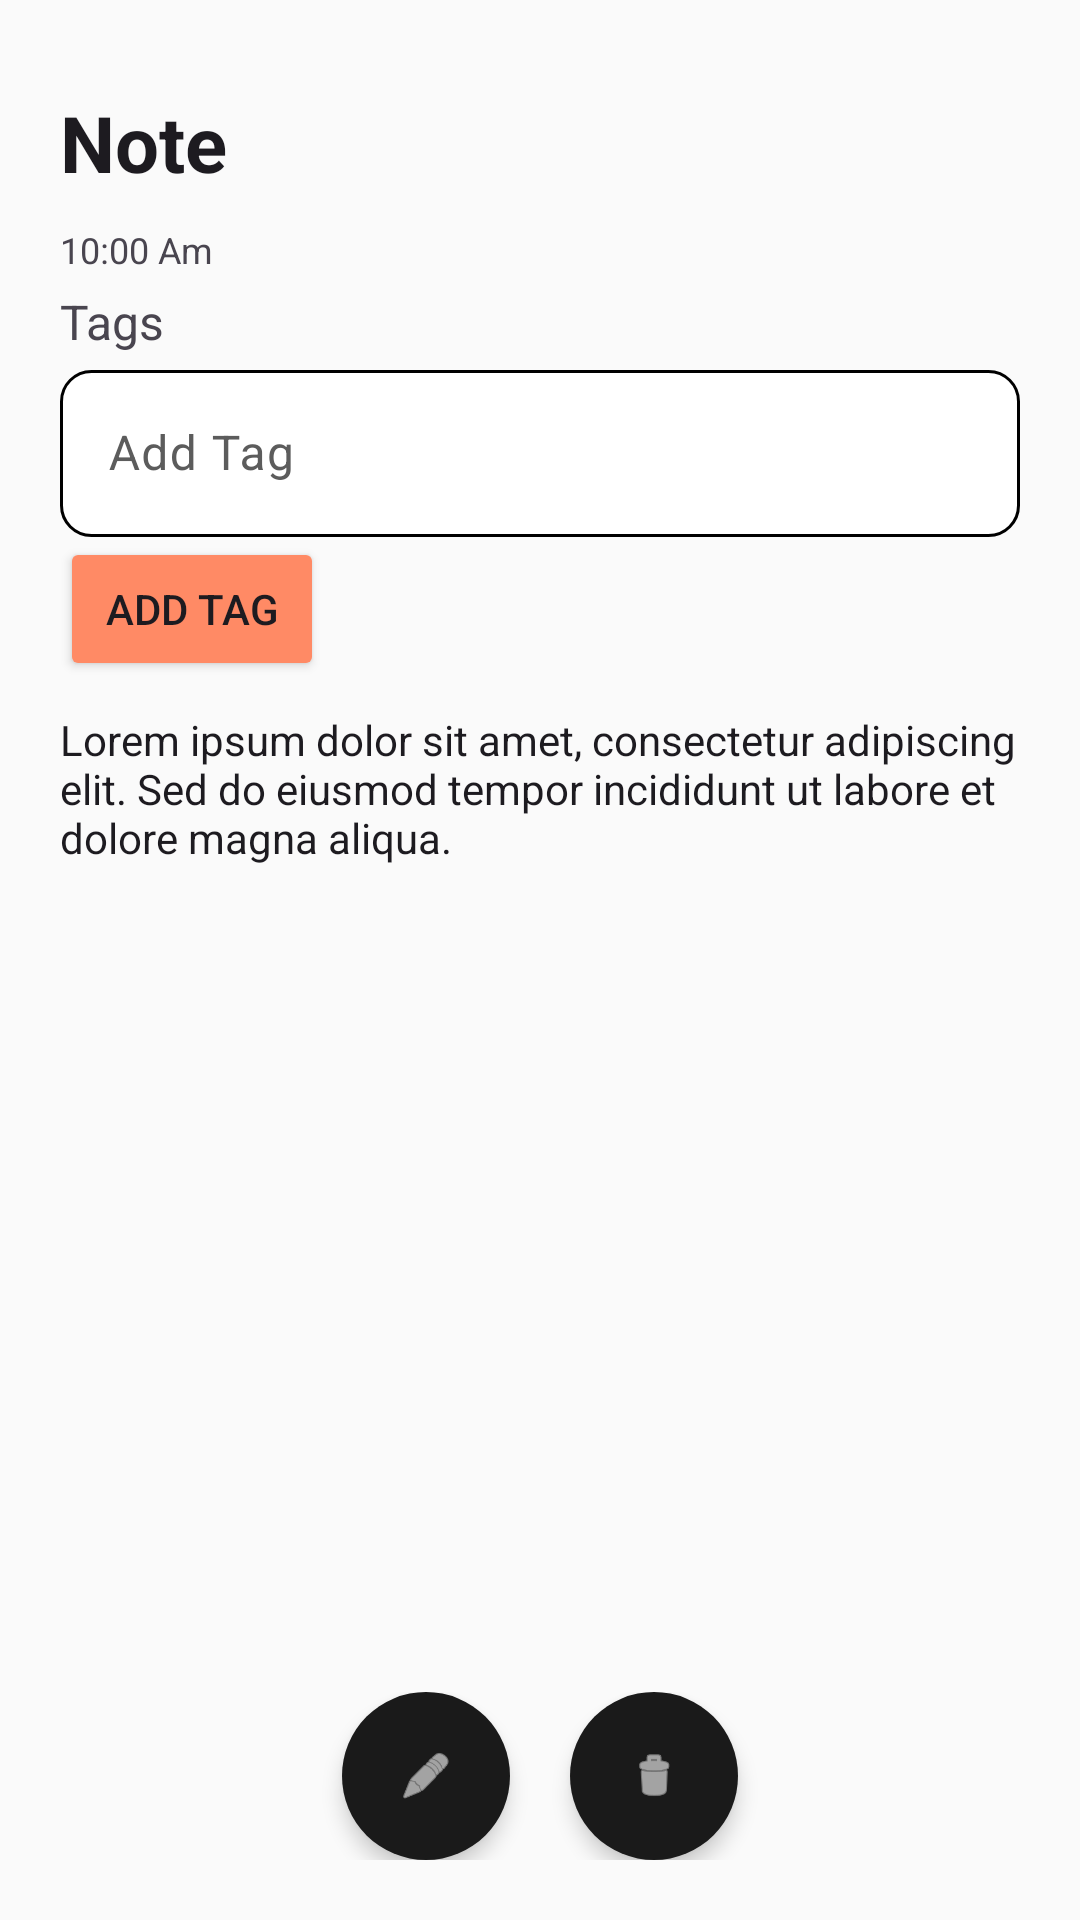

Named icons in this screenshot (1080x1920) and their bounding boxes, (x1, y1, x2, y2):
delete: (639, 1754, 670, 1796)
edit: (403, 1753, 449, 1798)
